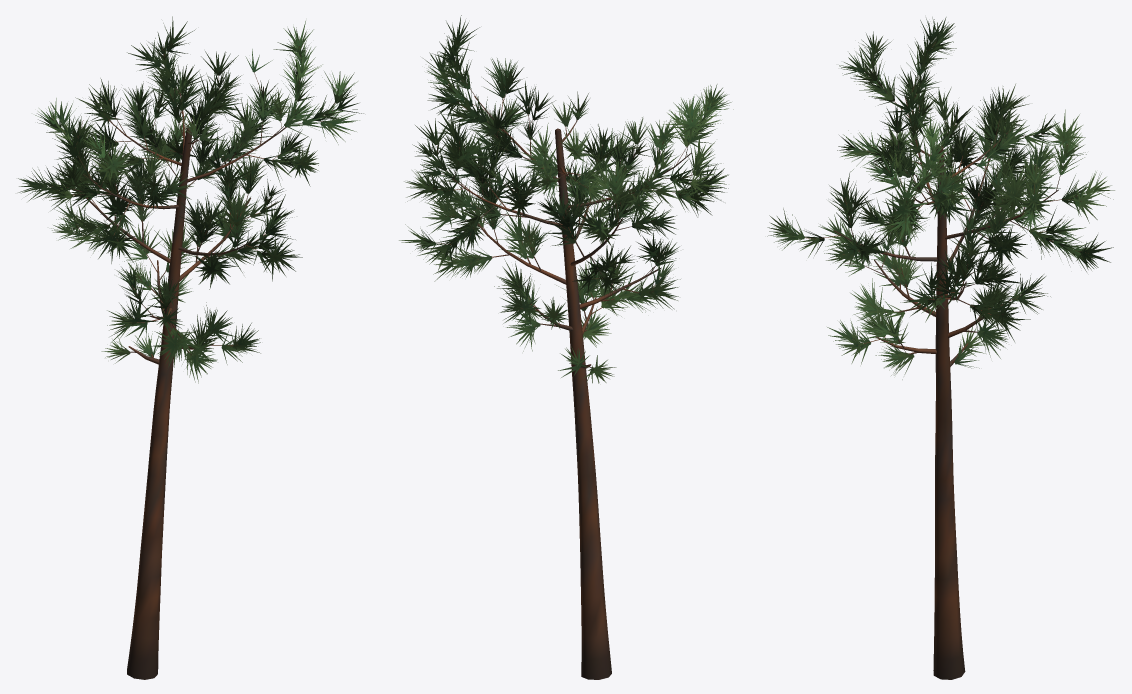
The model's file is pine-a.lod0.glb.
The picture shows the model from 3 angles, left to right: view 1: azimuth 30°, elevation 25°; view 2: azimuth 150°, elevation 25°; view 3: azimuth 270°, elevation 25°; orthographic projection. The views are drawn at different scales.
Size of the model in its own units: 7.23 by 13.85 by 7.02.
